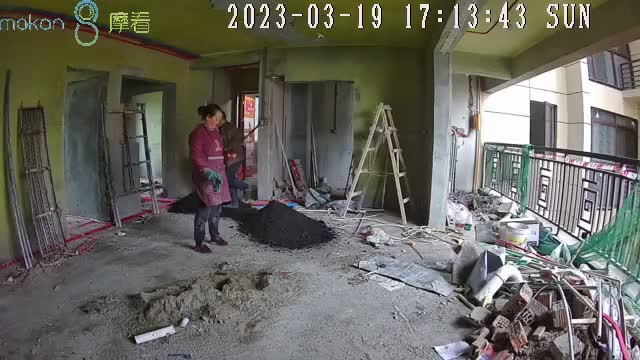people: (185, 103, 242, 253)
window: (481, 56, 639, 276)
